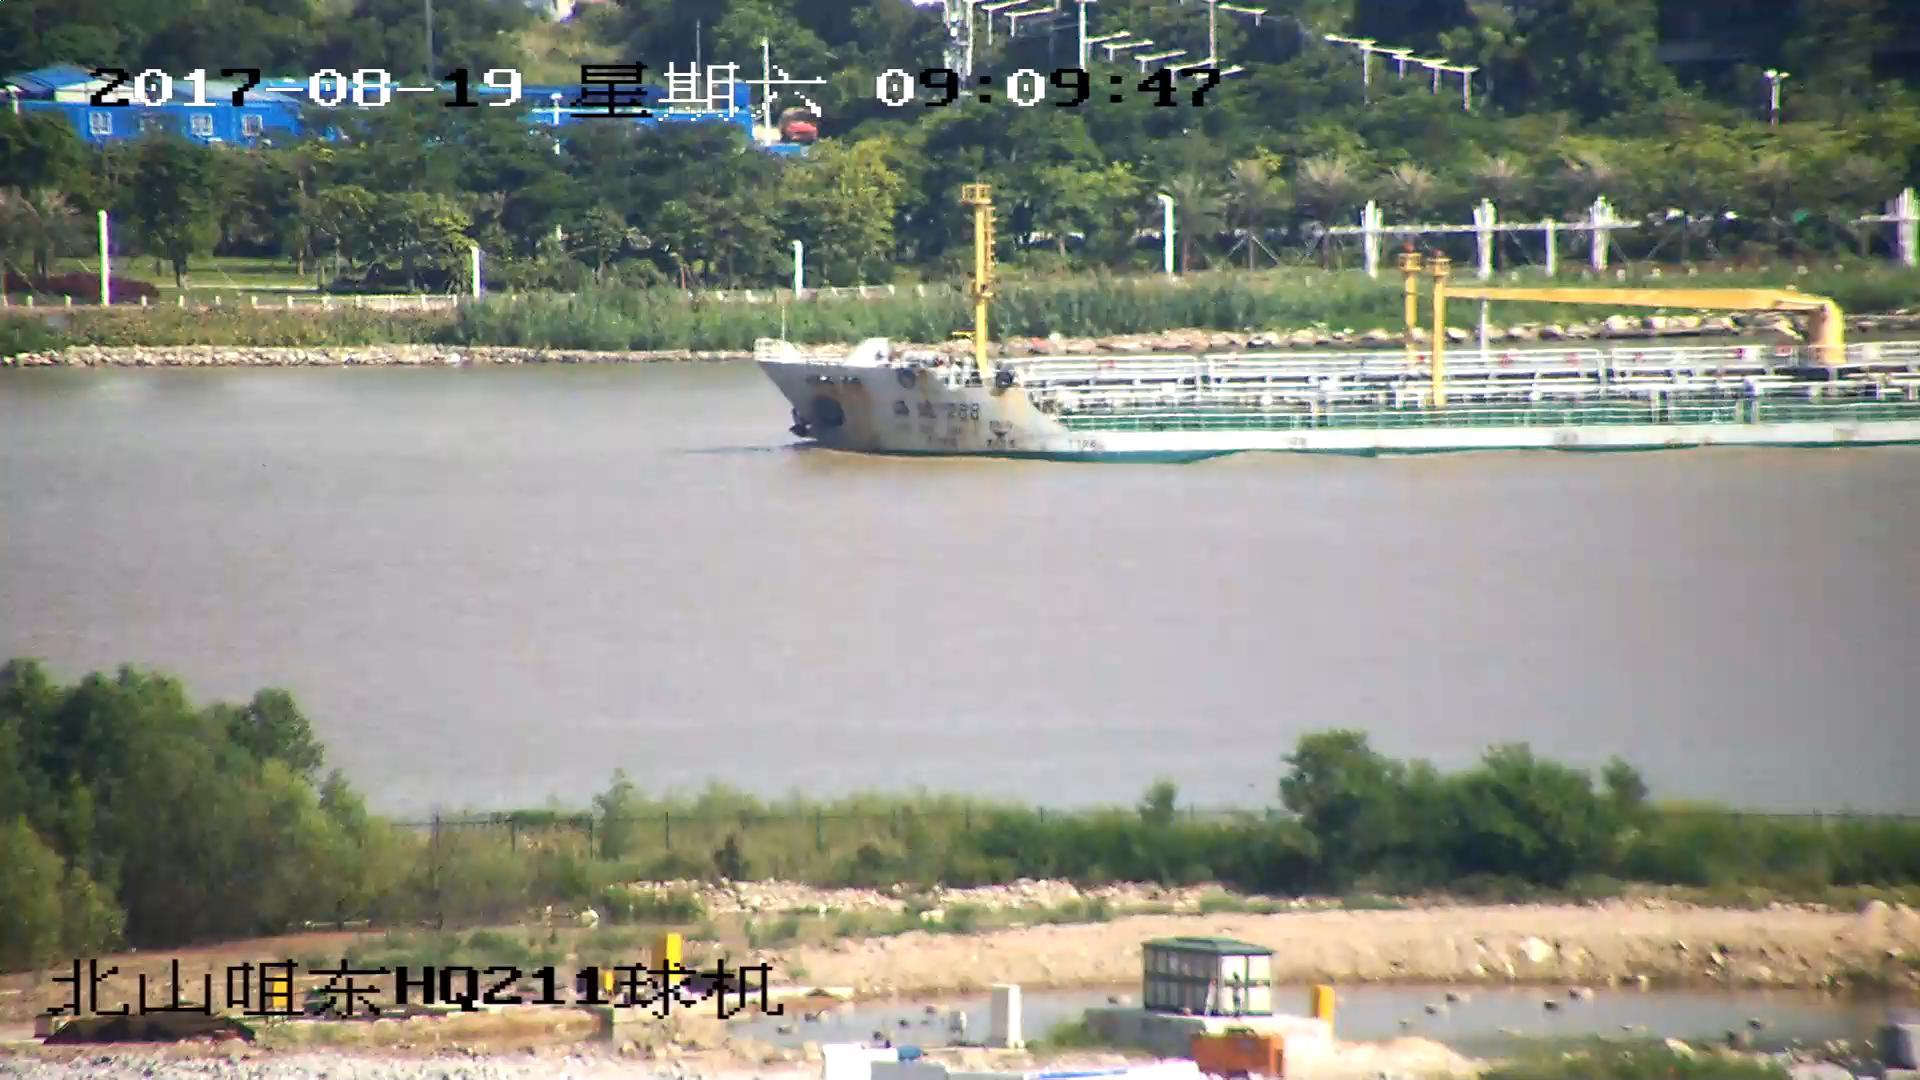Ship: (746, 208, 1920, 455)
